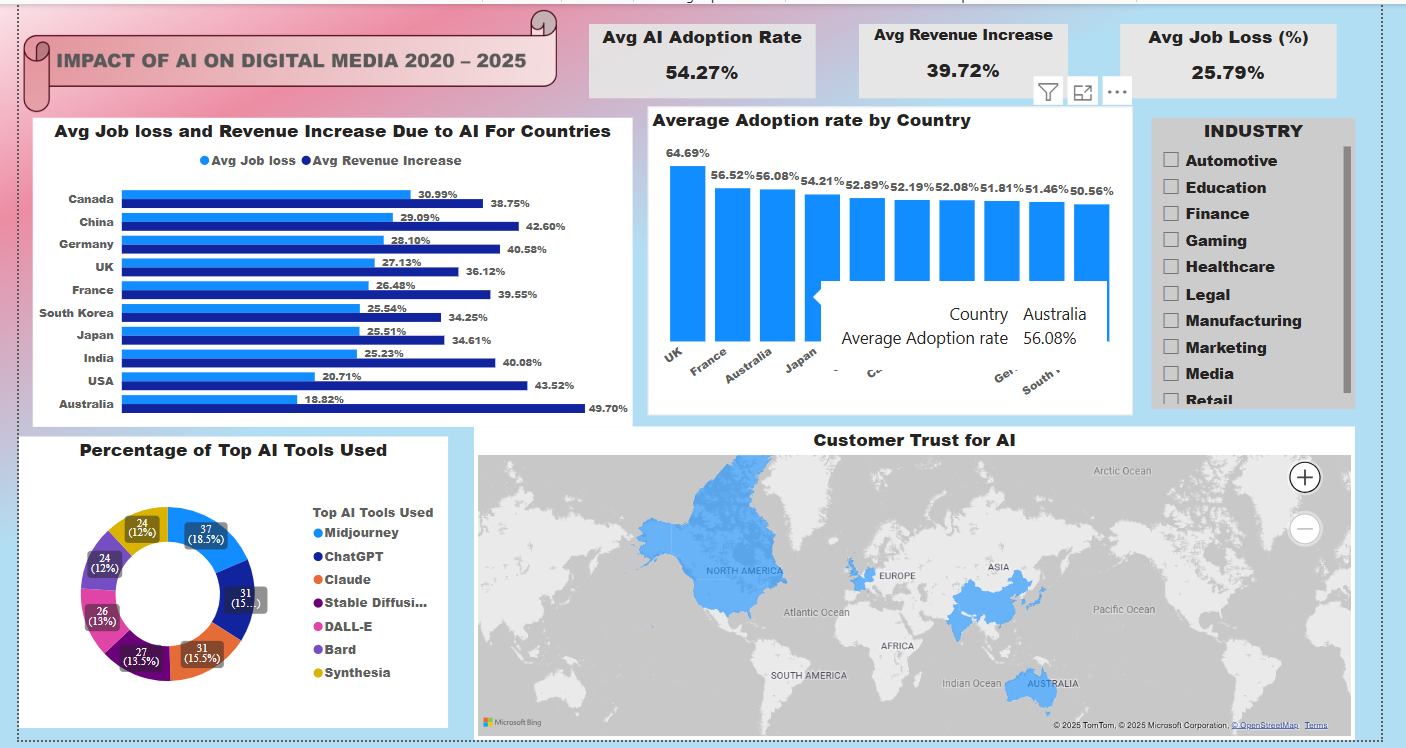

The page's visual inventory and layout, read from the dashboard file:
{"tool":"powerbi","page":{"name":"Page 1","canvas":[1480,800],"ordinal":0},"visuals":[{"type":"card","title":"Avg AI Adoption Rate","fields":{"Values":["Global AI Impact.Average Adoption rate"]},"box":[619.8,21.5,246,80.7],"z":0},{"type":"image","box":[0,0,589.5,124.1],"z":1000},{"type":"card","title":"Avg Revenue Increase","fields":{"Values":["Global AI Impact.Avg Revenue Increase"]},"box":[912.9,21.5,227.2,80.7],"z":2000},{"type":"card","title":"Avg Job Loss (%)","fields":{"Values":["Global AI Impact.Avg Job loss"]},"box":[1196.6,21.5,235.3,80.7],"z":3000},{"type":"donutChart","title":"Percentage of Top AI Tools Used","fields":{"Category":["Global AI Impact.Top AI Tools Used"],"Y":["CountNonNull(Global AI Impact.Top AI Tools Used)"]},"box":[0,470.1,466,316.6],"z":4000},{"type":"clusteredBarChart","title":"Avg Job loss and Revenue Increase Due to AI For Countries","fields":{"Category":["Global AI Impact.Country"],"Y":["Global AI Impact.Avg Job loss","Global AI Impact.Avg Revenue Increase"]},"box":[14.8,123.7,652.1,336.1],"z":5000},{"type":"columnChart","fields":{"Category":["Global AI Impact.Country"],"Y":["Global AI Impact.Average Adoption rate"]},"box":[683.4,111.4,527.2,335.6],"z":5001},{"type":"filledMap","title":"Customer Trust for AI ","fields":{"Category":["Global AI Impact.Country"]},"box":[494.6,459.2,957.9,341],"z":5002},{"type":"slicer","title":"INDUSTRY","fields":{"Values":["Global AI Impact.Industry"]},"box":[1231,123.6,221.5,316.6],"z":5003}]}

Visuals, with their boxes in screenshot pixels (x1, y1, x2, y2), scaled from the page's 1480x800 canvas onto the 1406x748 screenshot:
"Avg AI Adoption Rate" card: {"x1": 589, "y1": 20, "x2": 823, "y2": 96}
image: {"x1": 0, "y1": 0, "x2": 560, "y2": 116}
"Avg Revenue Increase" card: {"x1": 867, "y1": 20, "x2": 1083, "y2": 96}
"Avg Job Loss (%)" card: {"x1": 1137, "y1": 20, "x2": 1360, "y2": 96}
"Percentage of Top AI Tools Used" donutChart: {"x1": 0, "y1": 440, "x2": 443, "y2": 736}
"Avg Job loss and Revenue Increase Due to AI For Countries" clusteredBarChart: {"x1": 14, "y1": 116, "x2": 634, "y2": 430}
columnChart - Global AI Impact.Country x Global AI Impact.Average Adoption rate: {"x1": 649, "y1": 104, "x2": 1150, "y2": 418}
"Customer Trust for AI " filledMap: {"x1": 470, "y1": 429, "x2": 1380, "y2": 747}
"INDUSTRY" slicer: {"x1": 1169, "y1": 116, "x2": 1380, "y2": 412}
